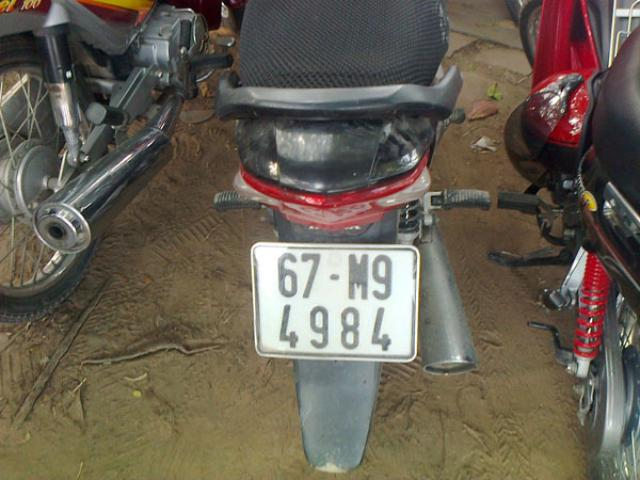plate: (248, 244, 418, 356)
